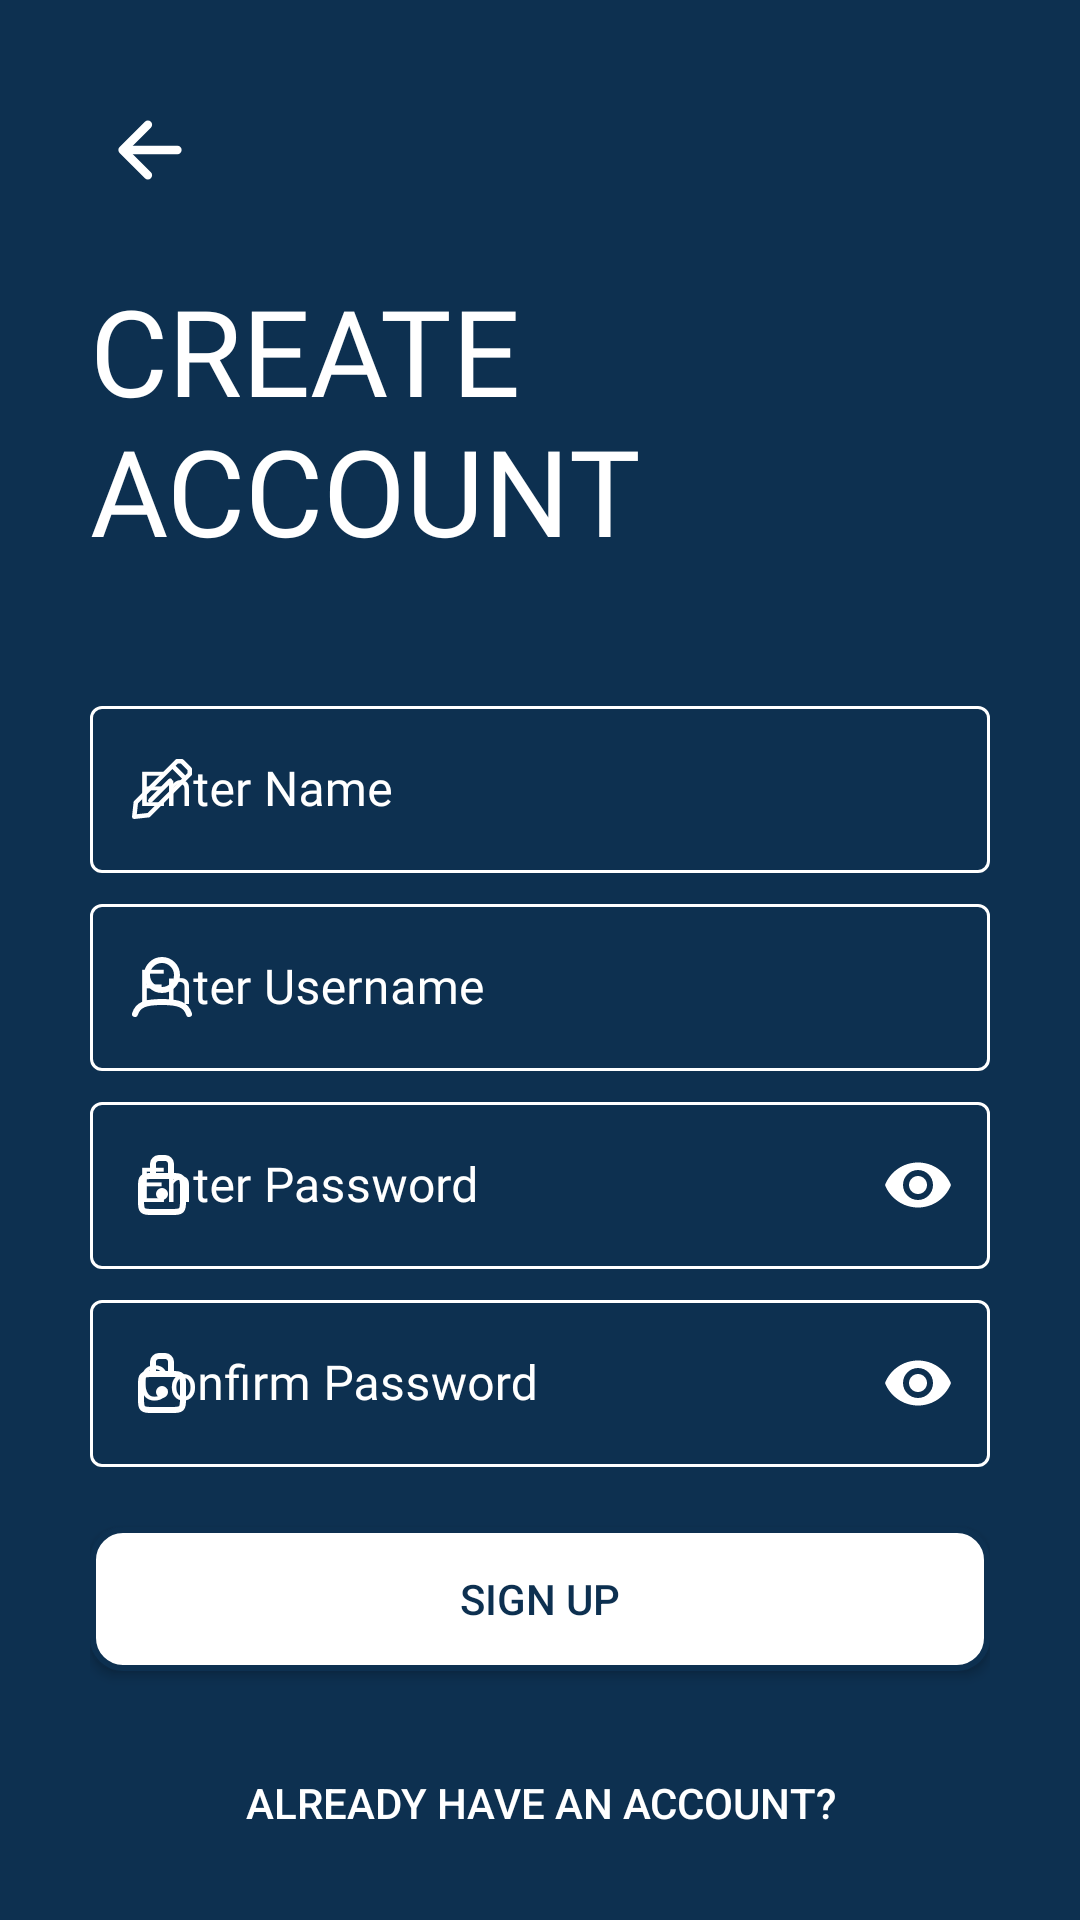

Where to tap for icons on this 1080x1920 app screen, as (x=x, y=y):
arrow back: (x=150, y=150)
